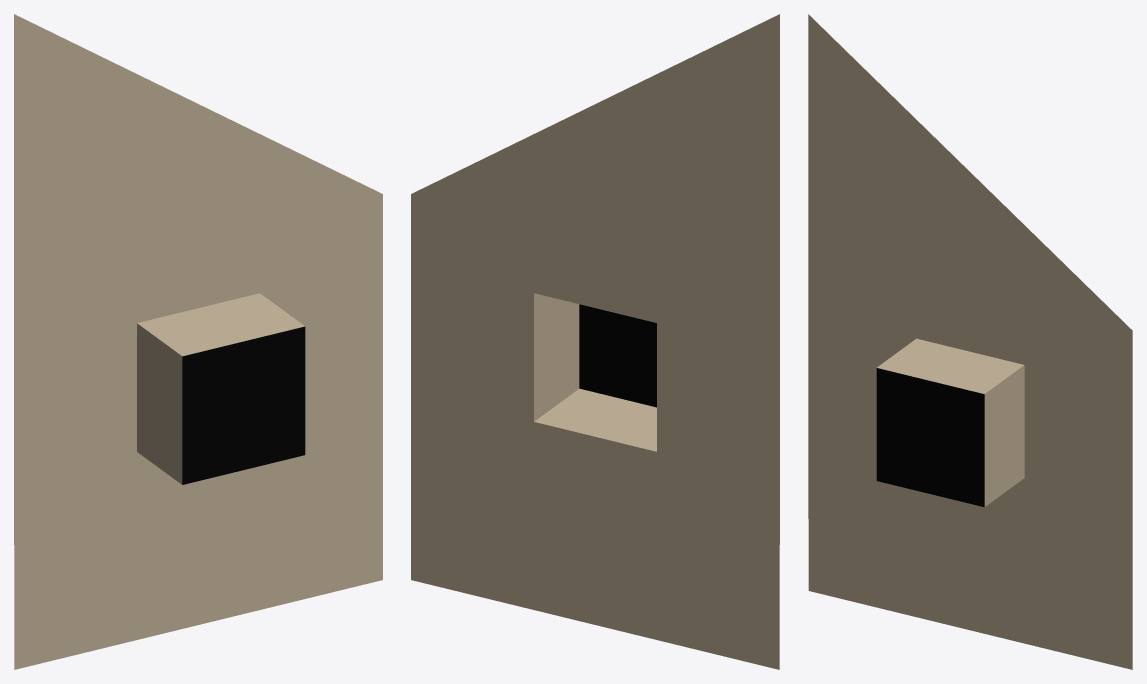
Rendered from tri_window_01.fbx.
3 renders of one model, left to right at view 1: azimuth 30°, elevation 25°; view 2: azimuth 150°, elevation 25°; view 3: azimuth 330°, elevation 25°, orthographic. The views are drawn at different scales.
Parts seen in each view (by area): view 1: Tri_Win_L_Final; view 2: Tri_Win_L_Final; view 3: Tri_Win_L_Final.
Boxes of the visible parts, <box> form: Tri_Win_L_Final: <box>14,14,382,669</box>; Tri_Win_L_Final: <box>411,14,779,669</box>; Tri_Win_L_Final: <box>808,14,1132,669</box>.
Bounding box in the file's own units: 100 × 170 × 21.32.
